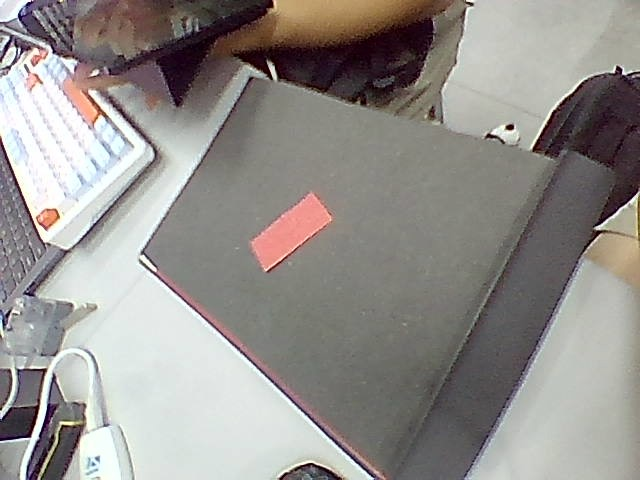card: (251, 192, 331, 271)
